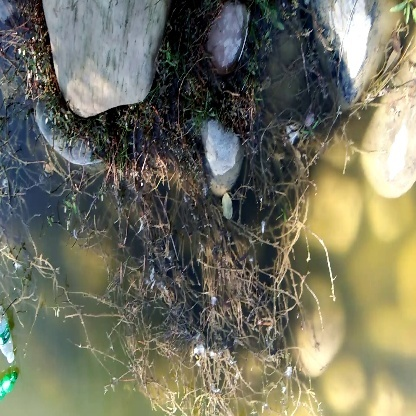grass: (119, 246, 263, 396)
